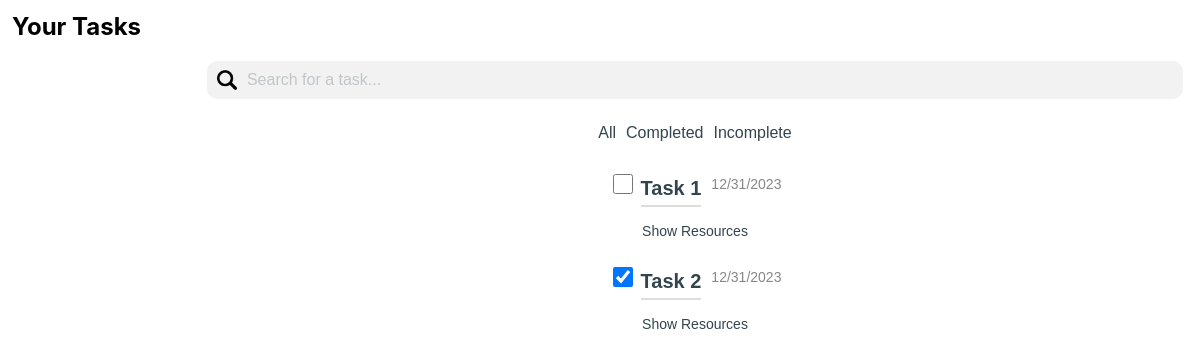
Scenario: TaskCard Component › filters tasks based on search query
The width and height of the screenshot is (1200, 346).
Check: the heading "Task 1" is shown, box [641,177,701,207]
Type "Task 2" into the field with placeholder "Search for a task...". click: x=705, y=80
box: [237,61,1173,99]
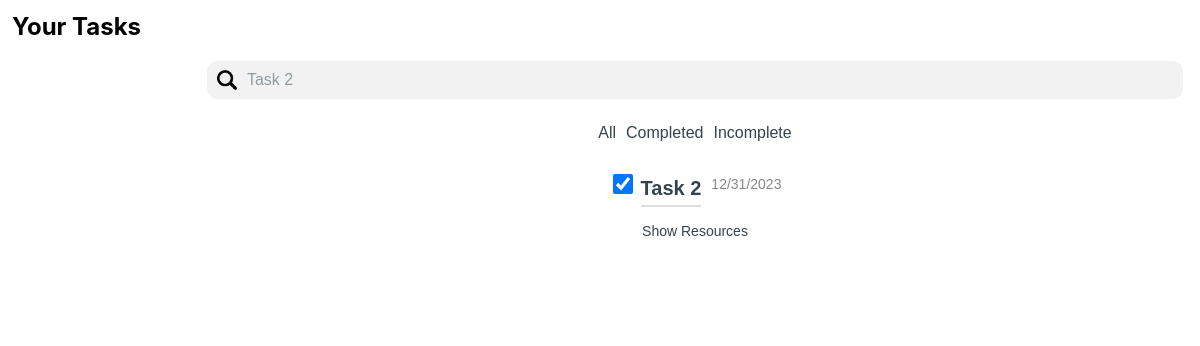
Check: the heading "Task 2" is shown, box [641,177,701,207]
Check: the heading "Task 1" is gone
